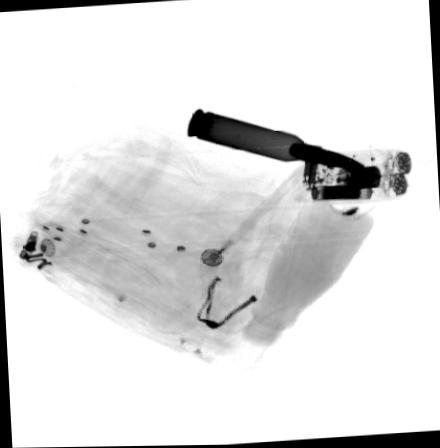Bullet: (185, 107, 368, 172)
